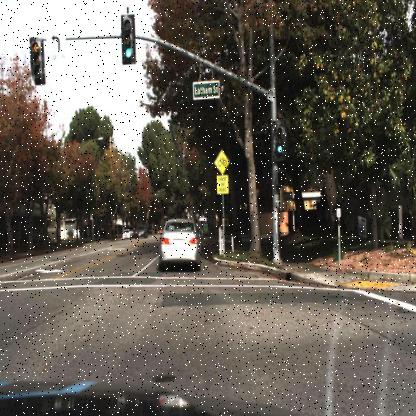car: (159, 217, 203, 272), (133, 221, 149, 245)
trafficLight: (120, 12, 136, 66)
trafficLight-Green: (272, 119, 286, 162)
trafficLight-RedLeft: (28, 33, 46, 91)
